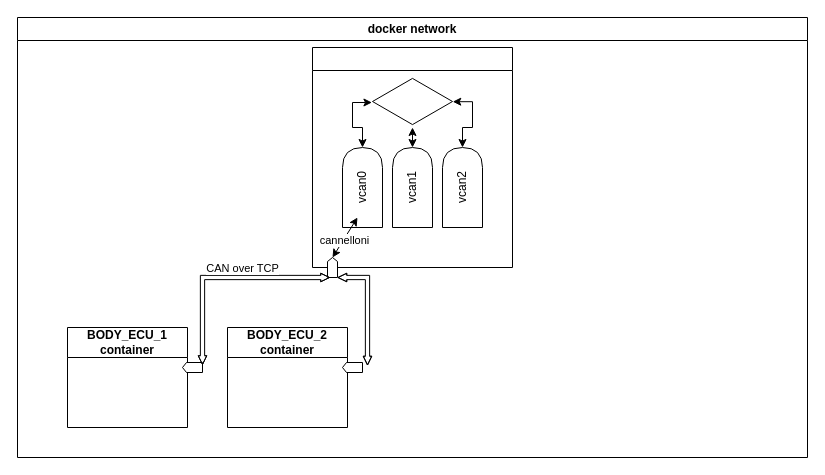
Image size: 825x475. Some labels were removed from this diagram. The box of each missing label's shape, as (x1, y1, x2, y2) in pixels:
Centralni container: (312, 46, 512, 268)
GATEWAY: (372, 76, 452, 126)
